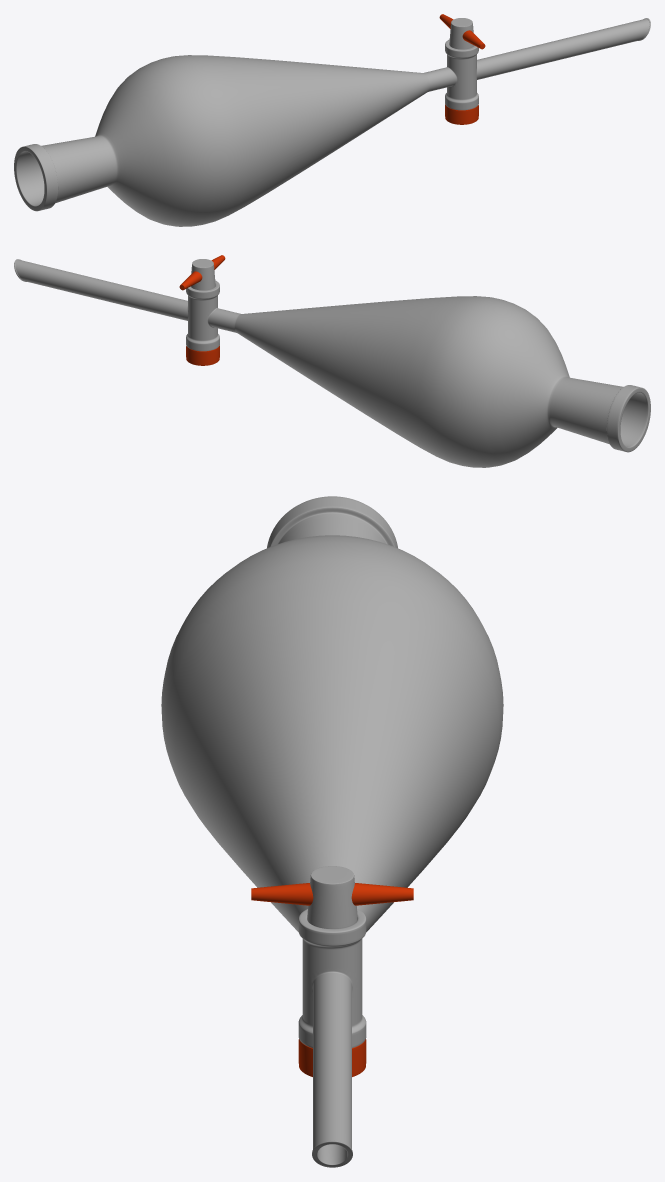
Rendered from 分液漏斗.fbx.
3 views of the same model, one above another, from view 1: azimuth 30°, elevation 25°; view 2: azimuth 150°, elevation 25°; view 3: azimuth 270°, elevation 25° (orthographic). The views are drawn at different scales.
Visible parts, largest first — view 1: lengningguan_02:polySurface1, polySurface1, lengningguan_02:polySurface4; view 2: lengningguan_02:polySurface1, polySurface1, lengningguan_02:polySurface4; view 3: lengningguan_02:polySurface1, polySurface1.
Part boxes in pixels (bbox=[...]): lengningguan_02:polySurface1: bbox=[14, 18, 650, 226]; polySurface1: bbox=[439, 14, 485, 49]; lengningguan_02:polySurface4: bbox=[445, 104, 478, 124]; lengningguan_02:polySurface1: bbox=[14, 259, 650, 467]; polySurface1: bbox=[179, 255, 225, 290]; lengningguan_02:polySurface4: bbox=[186, 345, 219, 365]; lengningguan_02:polySurface1: bbox=[161, 496, 503, 1167]; polySurface1: bbox=[251, 866, 413, 928].
Bounding box in the file's own units: 64.51 × 15.45 × 15.45.
